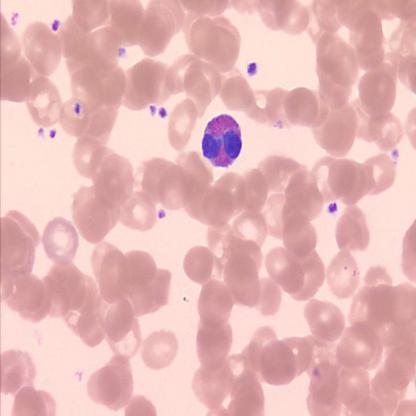Eosinophil: (202, 113, 243, 169)
